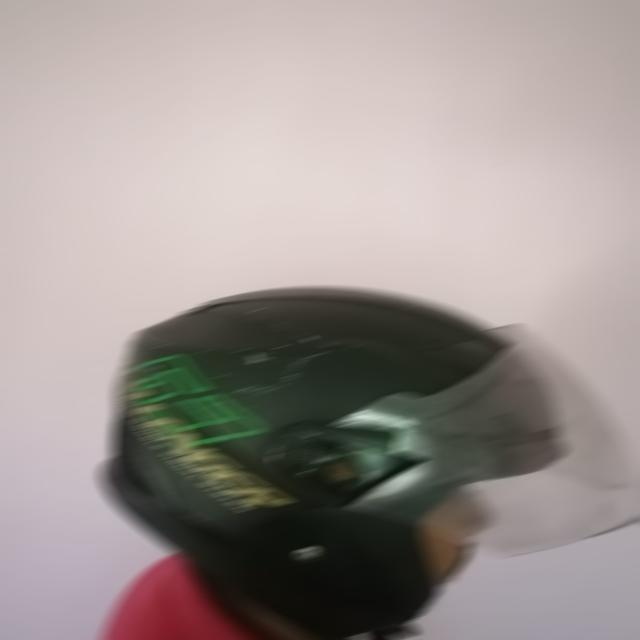With Helmet: (95, 285, 640, 639)
